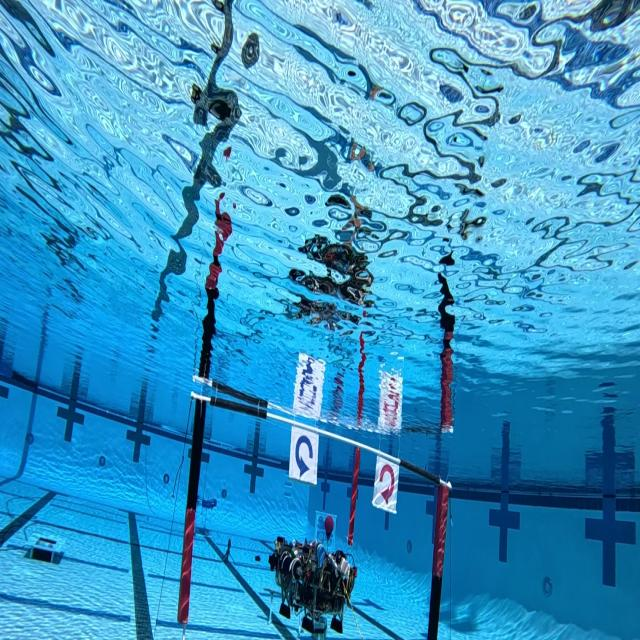blue_side: (289, 421, 319, 489)
red_side: (372, 452, 402, 515)
